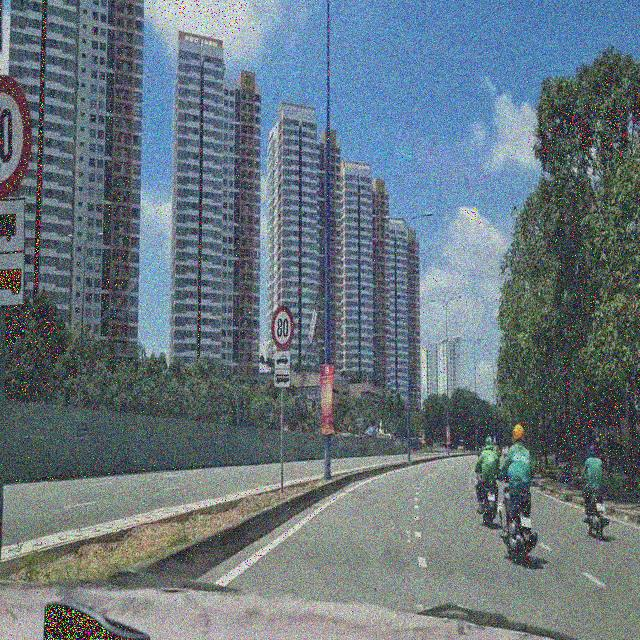Biển phụ: (272, 348, 292, 390)
Giới hạn tốc độ: 80Km/h: (268, 296, 295, 349)
